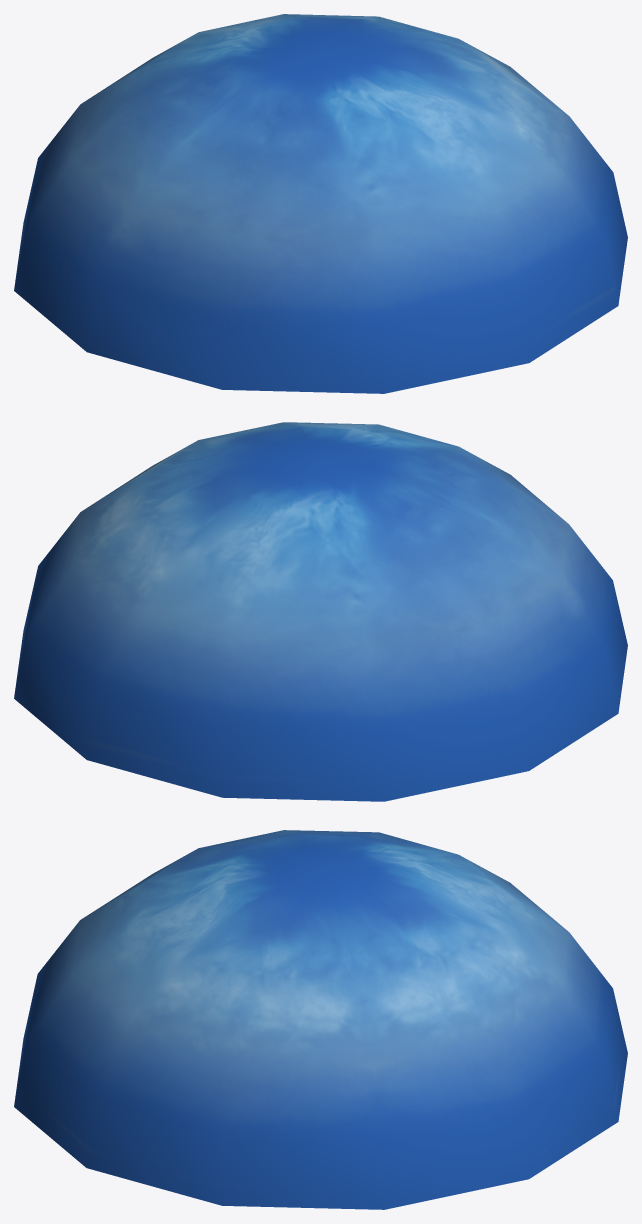
Rendered from env_tat_sailbarge_deck_01_pre.glb.
3 renders of one model, top to bottom at view 1: azimuth 30°, elevation 25°; view 2: azimuth 150°, elevation 25°; view 3: azimuth 270°, elevation 25°, orthographic.
Parts seen in each view (by area): view 1: skybox_01_mesh (3); view 2: skybox_01_mesh (3); view 3: skybox_01_mesh (3).
Part boxes in pixels (bbox=[...]): skybox_01_mesh (3): bbox=[14, 14, 627, 393]; skybox_01_mesh (3): bbox=[14, 422, 627, 801]; skybox_01_mesh (3): bbox=[14, 830, 627, 1209].
Size of the model in its own units: 478 by 185 by 478.
20 materials, 20 textured.
